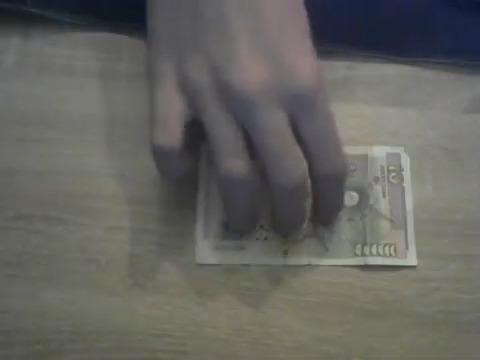10leva: (197, 191, 384, 266)
